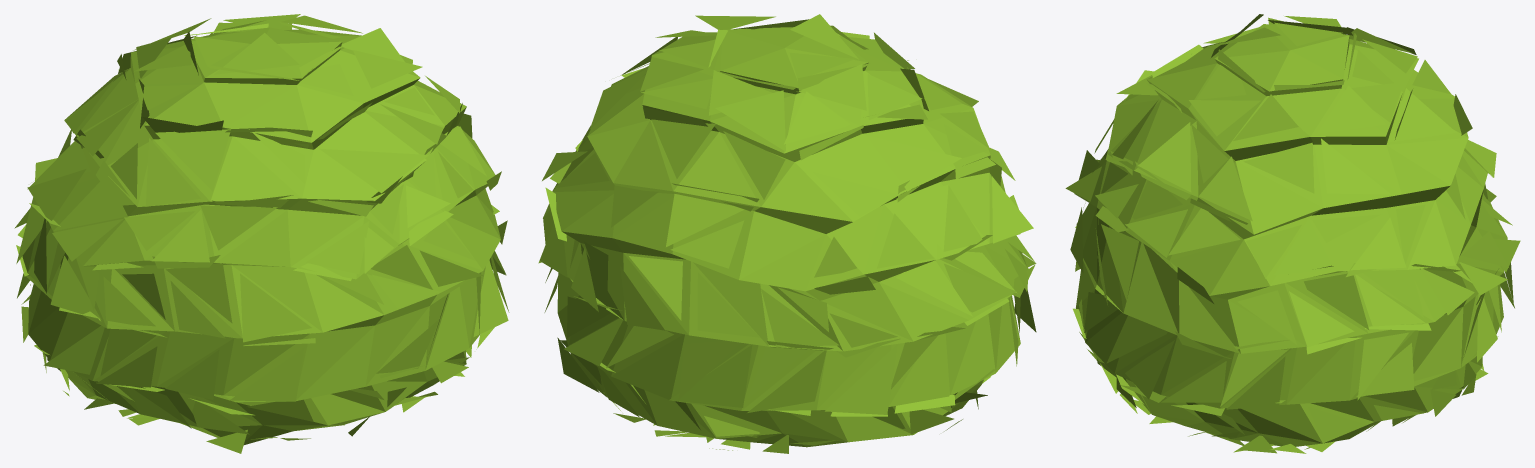
Rendered from bushB.fbx.
3 views of the same model, side by side, from view 1: azimuth 30°, elevation 25°; view 2: azimuth 150°, elevation 25°; view 3: azimuth 270°, elevation 25° (orthographic). The views are drawn at different scales.
Parts seen in each view (by area): view 1: Icosphere.001, Icosphere.002; view 2: Icosphere.001, Icosphere.002; view 3: Icosphere.001, Icosphere.002.
Part boxes in pixels (x1,y1,x2,y2): Icosphere.001: [20, 27, 500, 444]; Icosphere.002: [14, 14, 509, 453]; Icosphere.001: [552, 27, 1028, 447]; Icosphere.002: [538, 14, 1036, 453]; Icosphere.001: [1074, 24, 1507, 446]; Icosphere.002: [1065, 14, 1520, 453].
Bounding box in the file's own units: 241 × 188 × 218.
